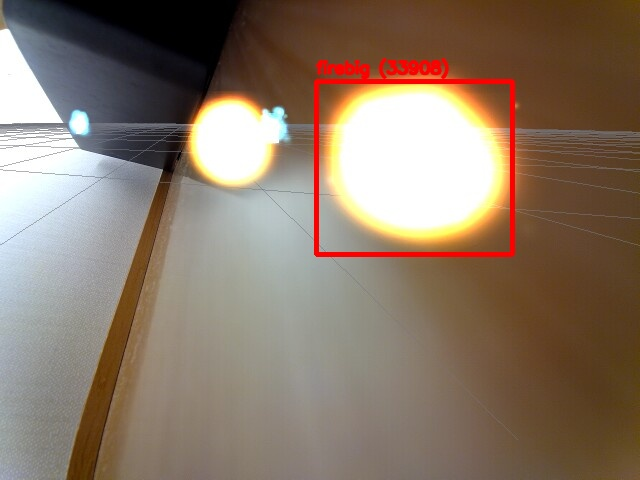firebig: (316, 81, 512, 254)
